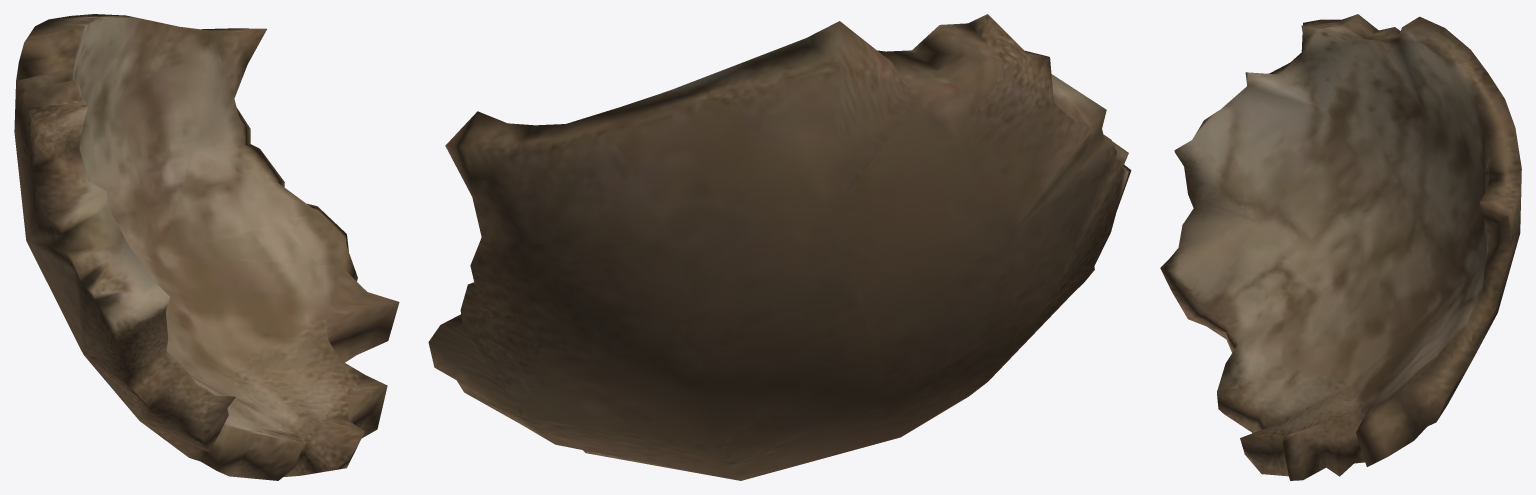
The model's file is mantle_skullchip.glb.
The picture shows the model from 3 angles, left to right: view 1: azimuth 30°, elevation 25°; view 2: azimuth 150°, elevation 25°; view 3: azimuth 270°, elevation 25°; orthographic projection. The views are drawn at different scales.
Parts seen in each view (by area): view 1: tripo_node_5b8bf3c8-744c-40be-b796-36caa90bb894; view 2: tripo_node_5b8bf3c8-744c-40be-b796-36caa90bb894; view 3: tripo_node_5b8bf3c8-744c-40be-b796-36caa90bb894.
Boxes of the visible parts, x1,y1,x2,y2 form: tripo_node_5b8bf3c8-744c-40be-b796-36caa90bb894: [14, 14, 399, 480]; tripo_node_5b8bf3c8-744c-40be-b796-36caa90bb894: [428, 14, 1131, 480]; tripo_node_5b8bf3c8-744c-40be-b796-36caa90bb894: [1160, 14, 1521, 480].
Bounding box in the file's own units: 0.9825 × 0.998 × 0.8847.
Materials: 1 (1 with a texture image).
